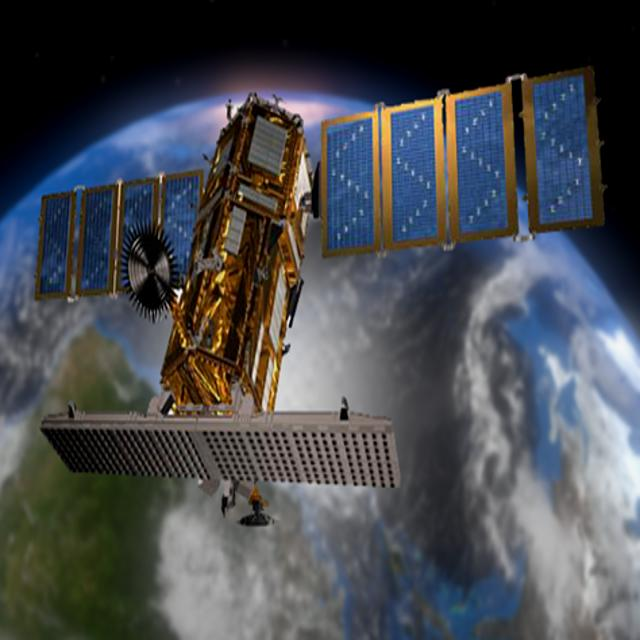medium_debris: (25, 48, 614, 544)
